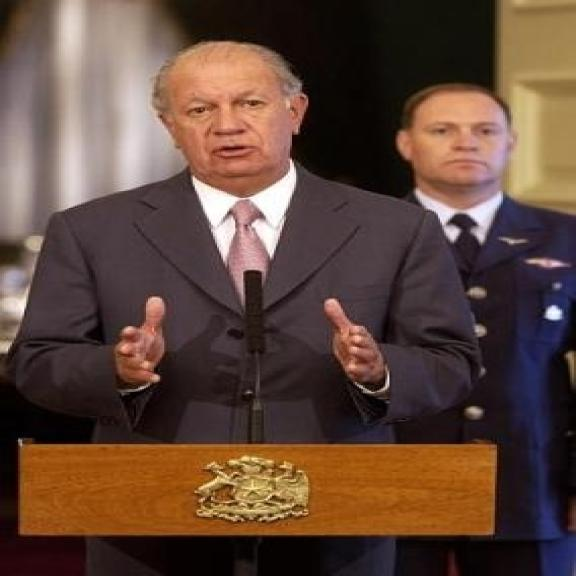face: (153, 40, 310, 184), (390, 86, 521, 189)
